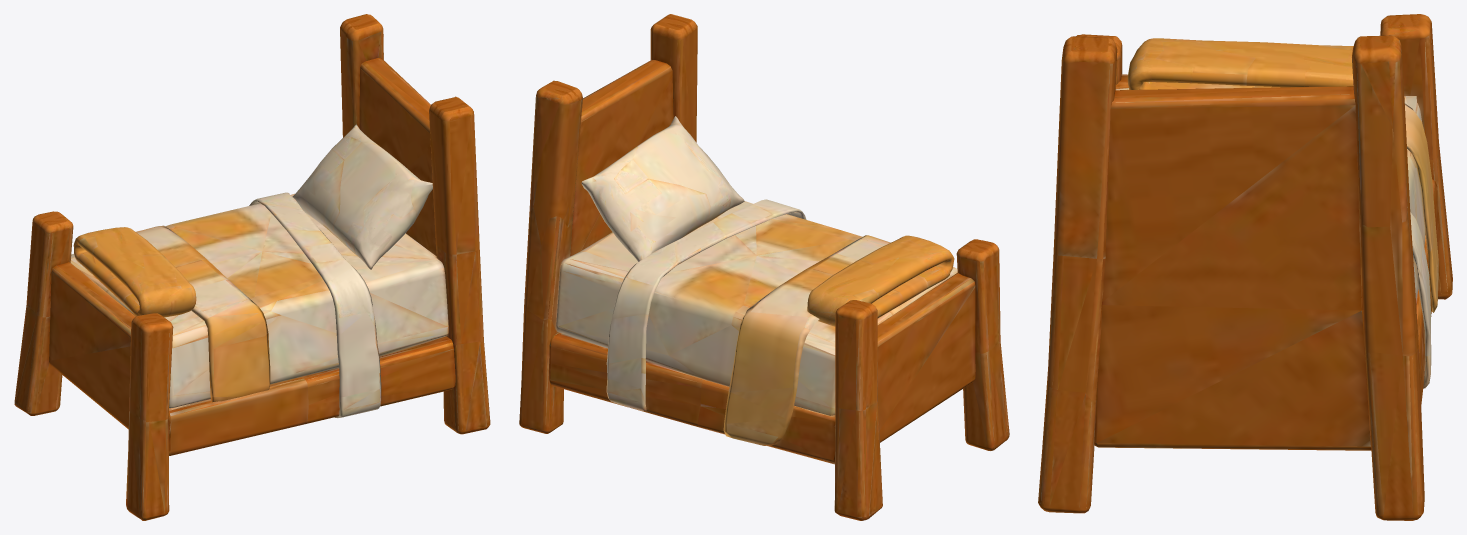
The model's file is bed.glb.
3 views of the same model, side by side, from view 1: azimuth 30°, elevation 25°; view 2: azimuth 150°, elevation 25°; view 3: azimuth 270°, elevation 25° (orthographic). The views are drawn at different scales.
Size of the model in its own units: 1 by 0.9307 by 0.7164.
Materials: 1 (1 with a texture image).
